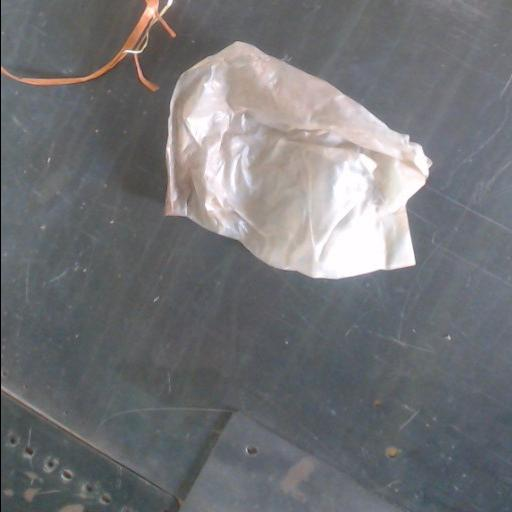conveyor belt: (1, 0, 512, 511), (1, 0, 140, 76)
packet: (165, 41, 430, 278)
thread: (1, 0, 175, 91)
